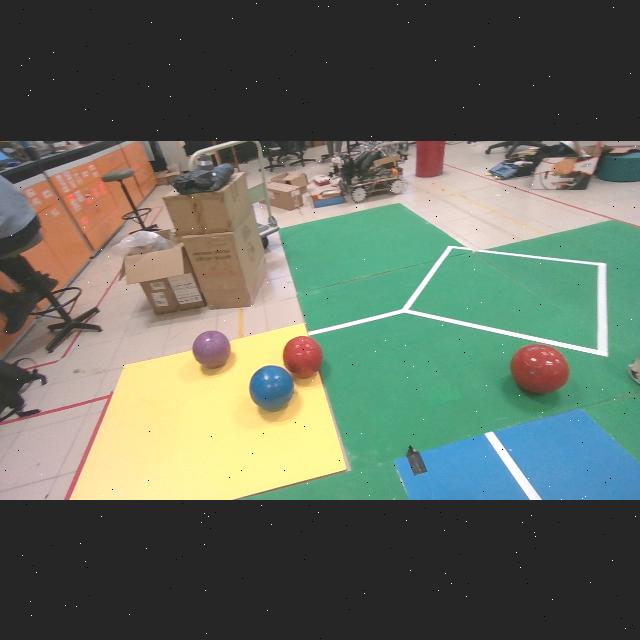B: (250, 364, 294, 411)
P: (193, 330, 230, 368)
R: (510, 343, 569, 393), (283, 335, 323, 378)
